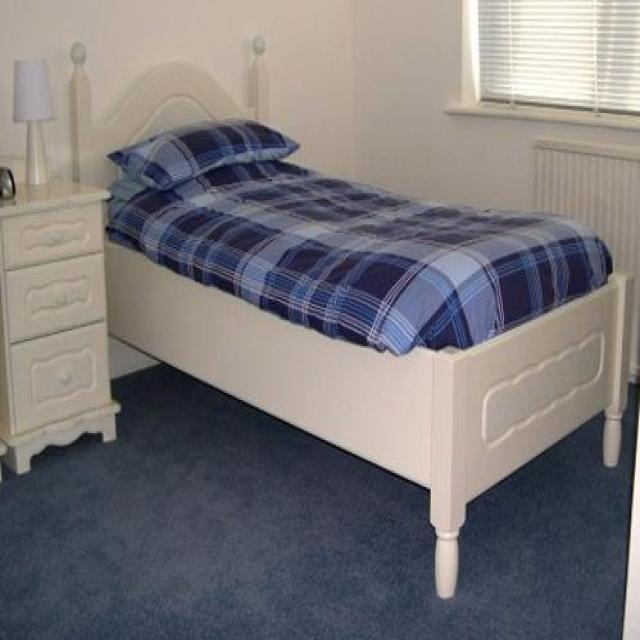bed: (66, 35, 634, 598)
